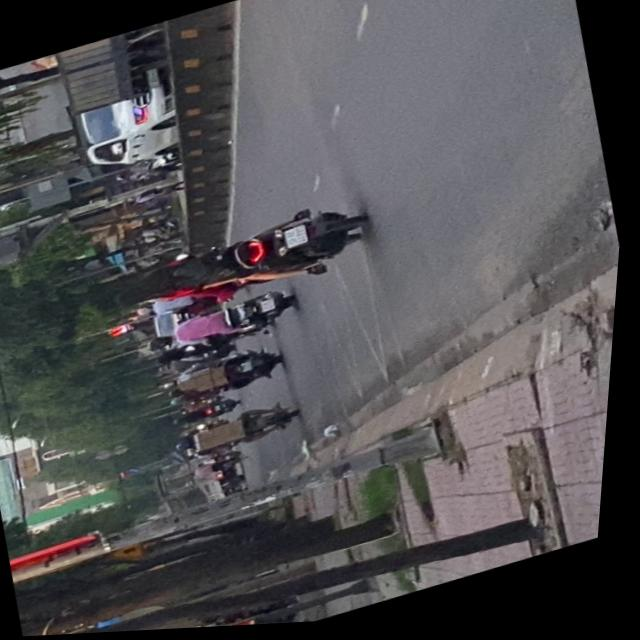licenseplate: (89, 194, 379, 337)
motorcyclist: (107, 269, 177, 318)
nohelmet: (285, 227, 311, 250)
